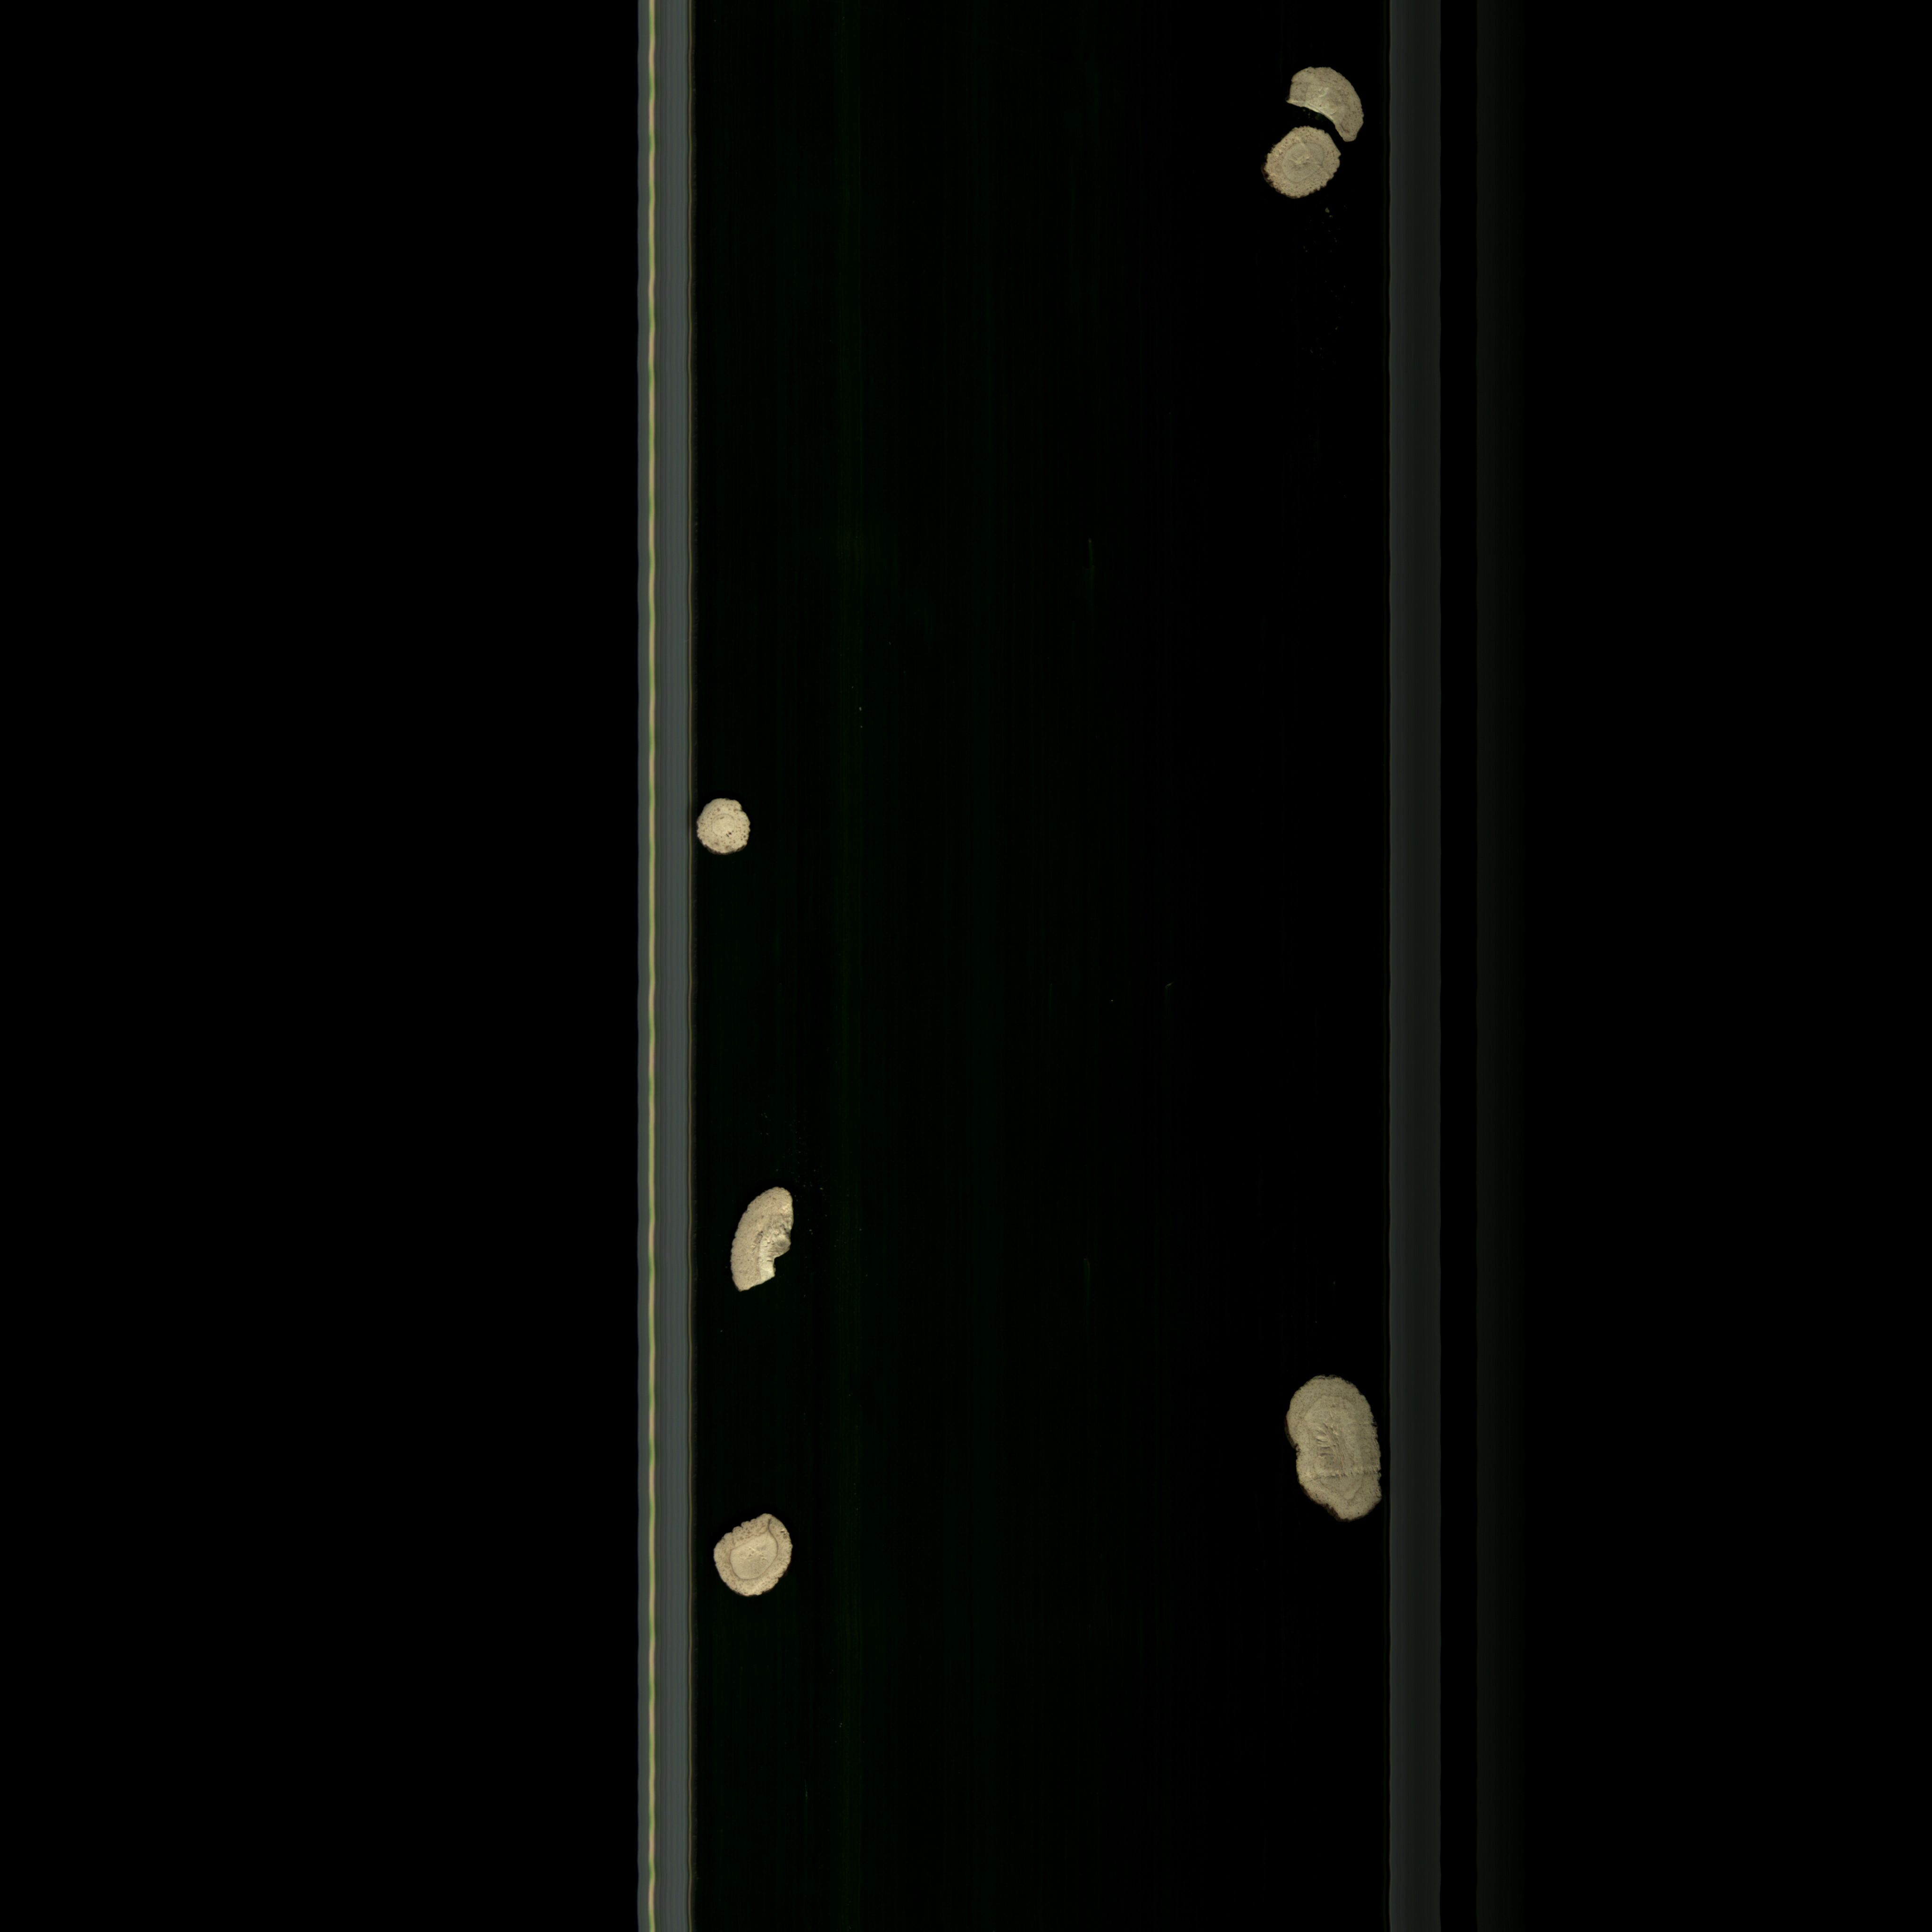debris: (722, 1169, 800, 1297), (1284, 50, 1376, 142)
distortion: (1279, 1366, 1387, 1529)
